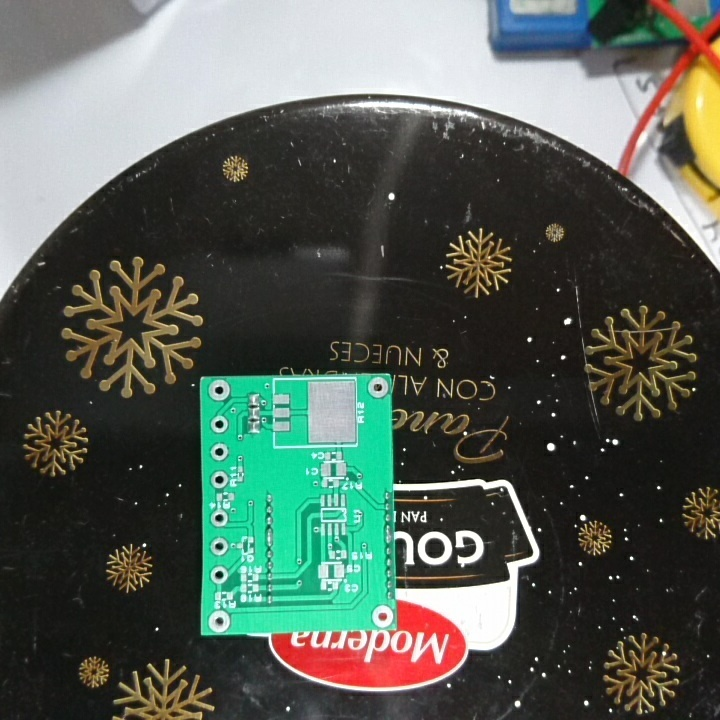F: (206, 378, 233, 404), (369, 603, 396, 629), (205, 608, 234, 632), (205, 535, 230, 560), (365, 375, 390, 400), (207, 440, 231, 466), (208, 563, 231, 587), (209, 412, 230, 436), (209, 506, 230, 529), (210, 468, 230, 492)
P: (262, 525, 279, 548), (381, 523, 394, 546)
